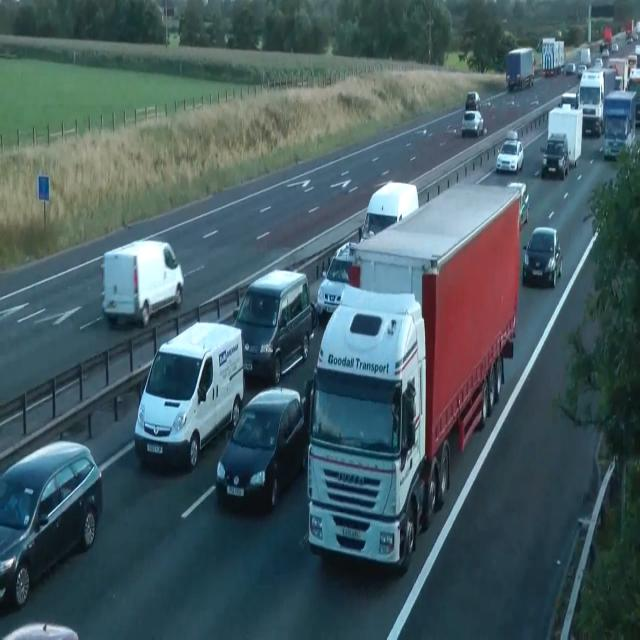bus: (0, 439, 103, 608), (216, 386, 306, 511), (316, 241, 360, 320), (522, 226, 562, 288), (2, 621, 78, 639), (541, 133, 569, 179), (496, 130, 524, 172), (507, 182, 529, 230), (461, 109, 483, 137), (465, 91, 481, 110), (560, 92, 578, 108), (592, 57, 604, 70), (576, 63, 586, 78), (599, 40, 609, 53), (566, 62, 576, 74), (610, 42, 618, 52), (626, 36, 632, 44)
car: (304, 283, 428, 573), (315, 180, 419, 320)
jeep: (133, 320, 244, 470), (232, 268, 314, 384), (357, 180, 419, 242)
minibus: (306, 181, 522, 574), (100, 238, 184, 328), (576, 67, 616, 135), (602, 89, 638, 160), (547, 104, 583, 167), (506, 46, 534, 91), (541, 38, 565, 76)
